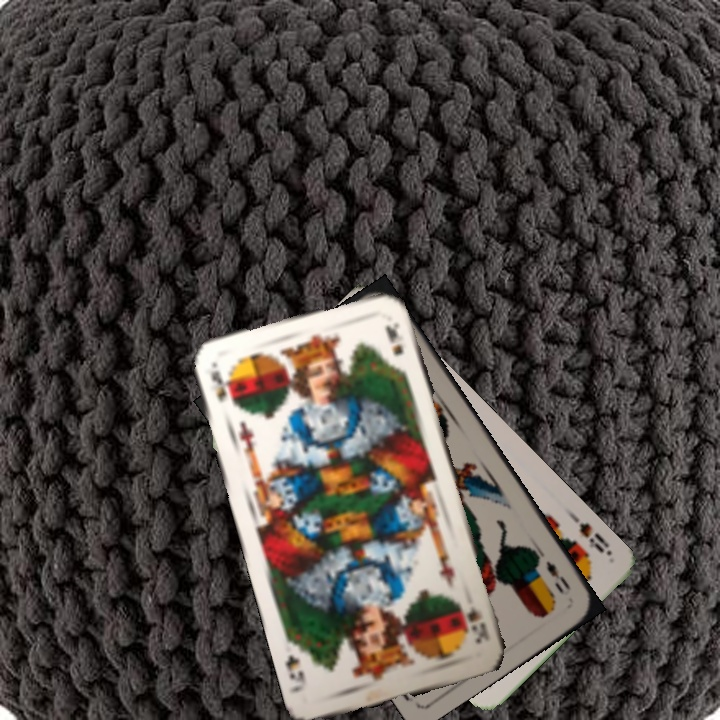EO: (541, 557, 574, 597)
S8: (575, 519, 607, 556)
SK: (462, 602, 493, 647), (207, 366, 238, 409)
